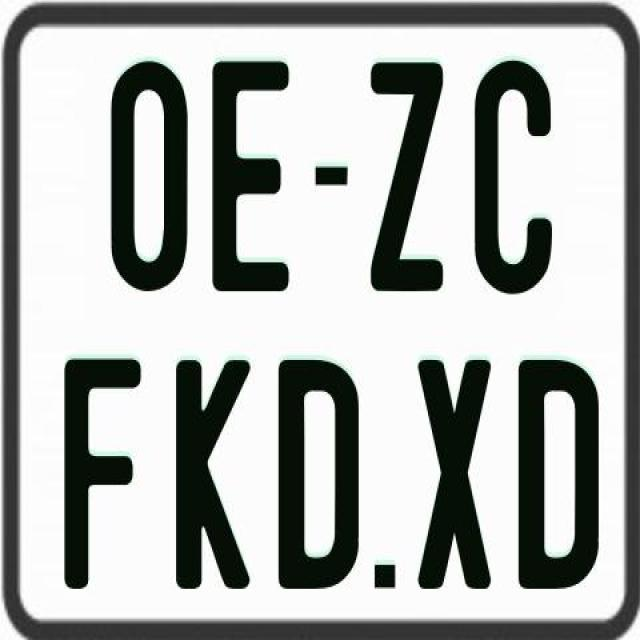0: (107, 56, 189, 296)
C: (475, 61, 557, 304)
D: (518, 360, 606, 594), (279, 357, 365, 592)
E: (212, 61, 294, 299)
F: (60, 358, 140, 592)
K: (172, 357, 246, 591)
X: (417, 355, 491, 587)
Z: (368, 63, 440, 298)
